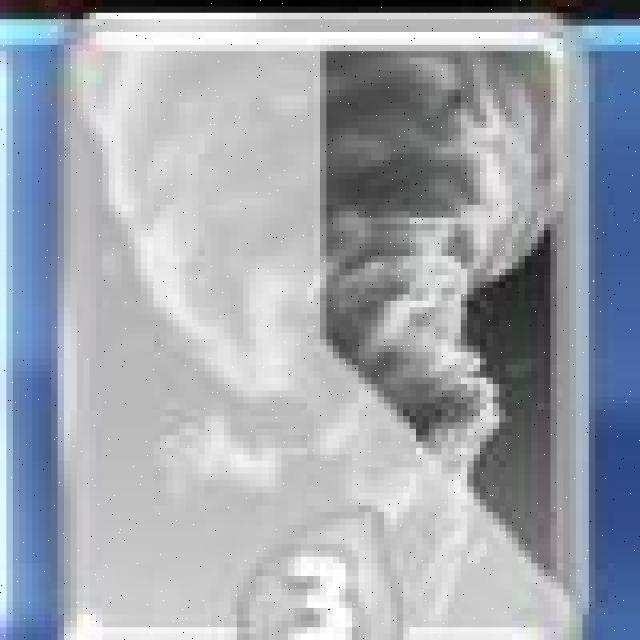Tornado: (59, 19, 592, 640)
